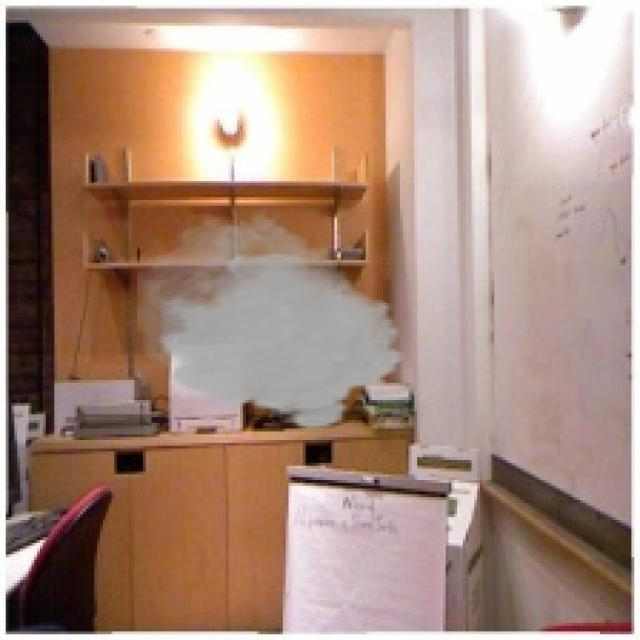smoke: (137, 206, 409, 431)
